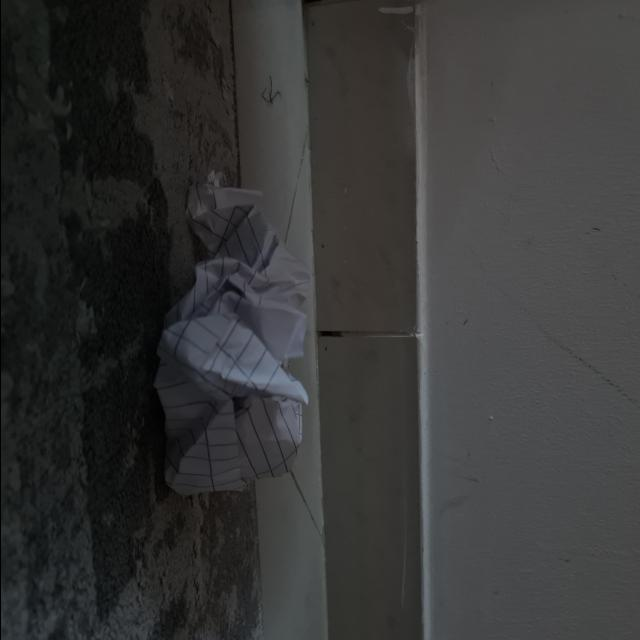kertas: (162, 167, 310, 498)
